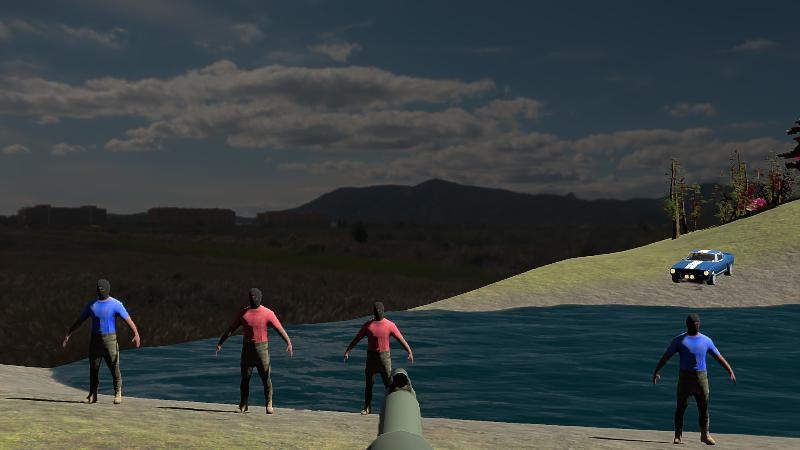Human: (653, 312, 735, 446), (63, 277, 140, 405), (217, 286, 292, 416), (344, 300, 412, 419)
car: (671, 248, 733, 285)
